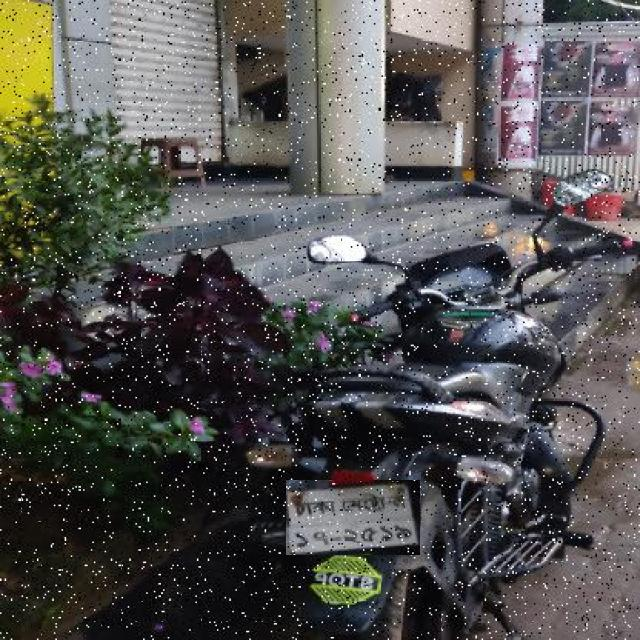numberplate: (286, 480, 420, 555)
